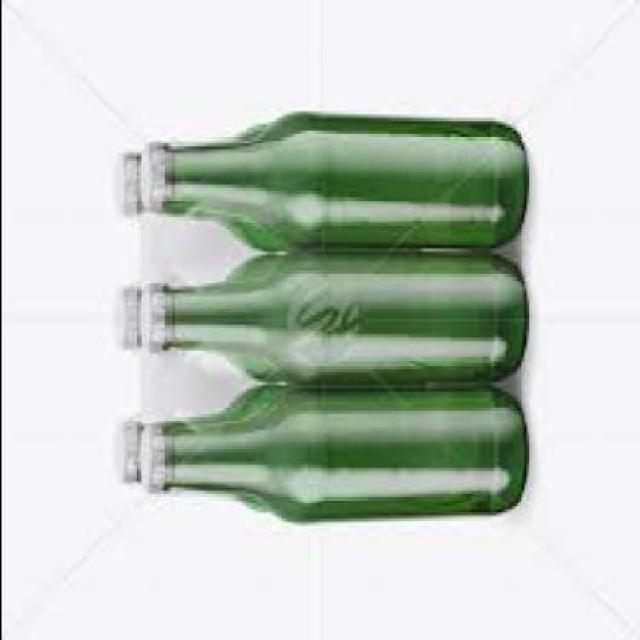glass: (163, 113, 526, 250), (162, 380, 526, 514), (163, 250, 523, 372), (136, 379, 306, 506), (135, 122, 280, 249), (137, 252, 275, 380), (140, 383, 275, 506)
metal: (136, 277, 170, 351), (112, 408, 143, 478), (135, 134, 160, 208), (112, 274, 137, 341), (112, 146, 136, 211), (136, 420, 158, 488)
